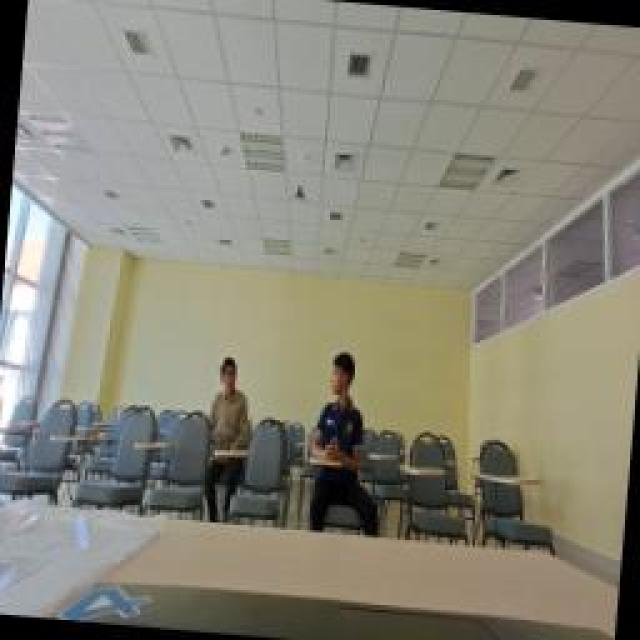study: (300, 340, 392, 538), (193, 348, 255, 520)
